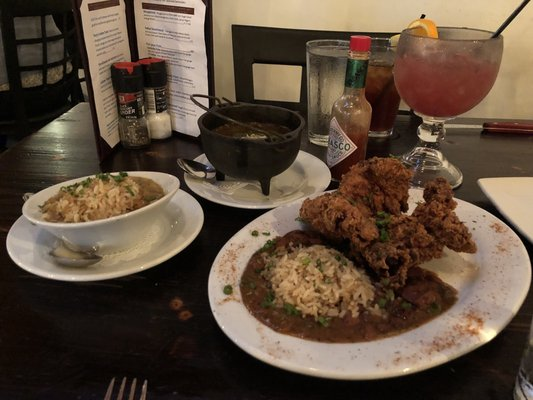burger: (103, 375, 149, 400)
sushi: (21, 171, 180, 256), (197, 102, 305, 194)
